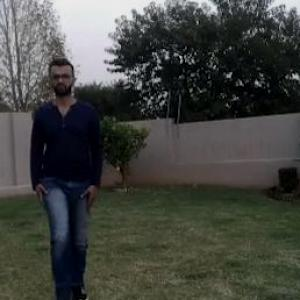follow: (35, 77, 100, 281)
